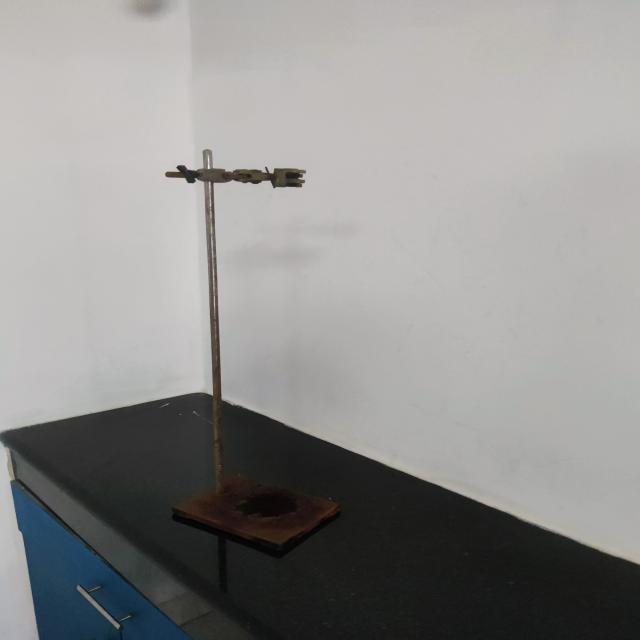Burette_Stands: (145, 127, 384, 570)
